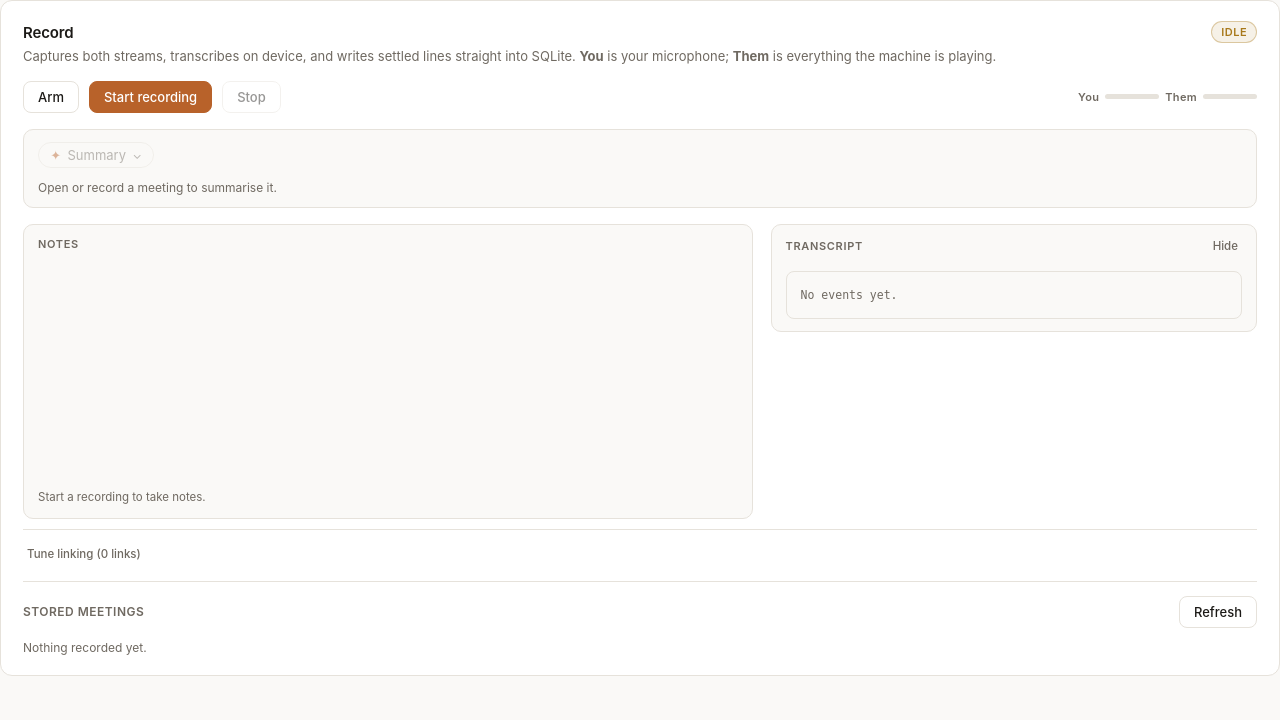
Test: RecordCard › surfaces a failure to start
Step 1. Click the button "Start recording" → (151, 96), box x1=89 y1=80 x2=212 y2=112
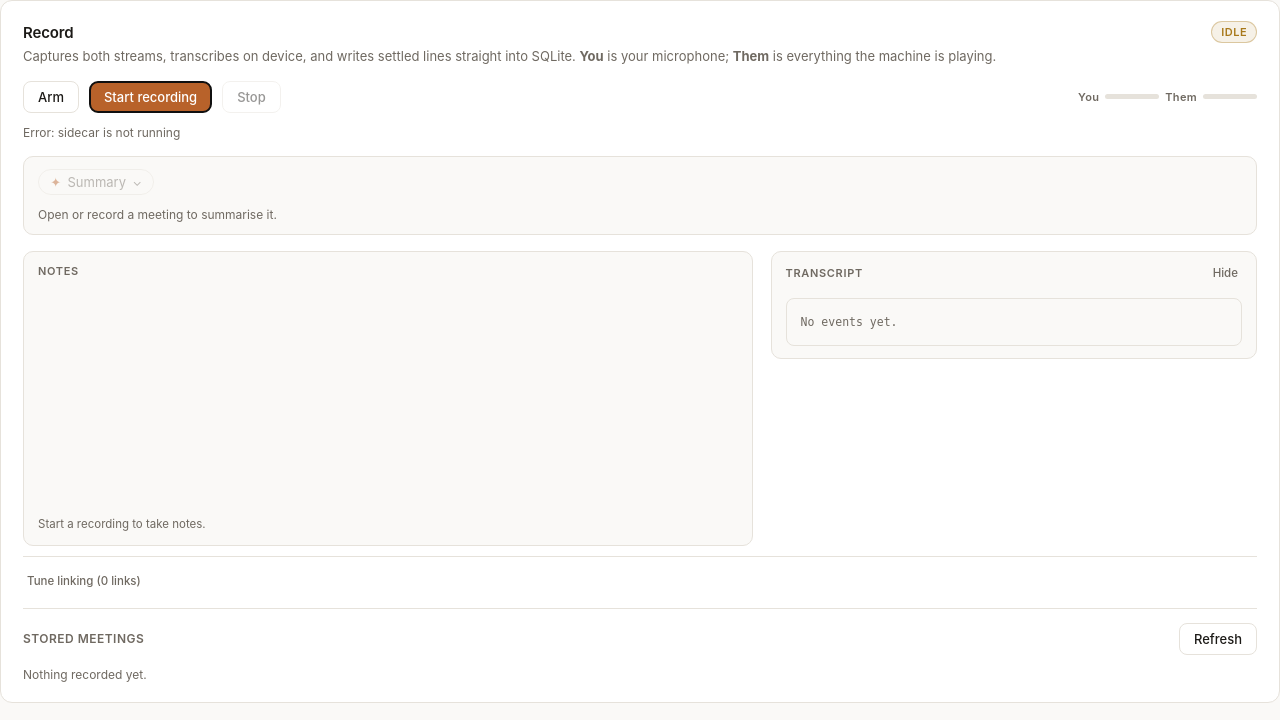
Expected: the text "idle" is shown, x1=1211 y1=21 x2=1257 y2=43
Expected: the text "Error: sidecar is not running" is shown, x1=23 y1=124 x2=180 y2=140
